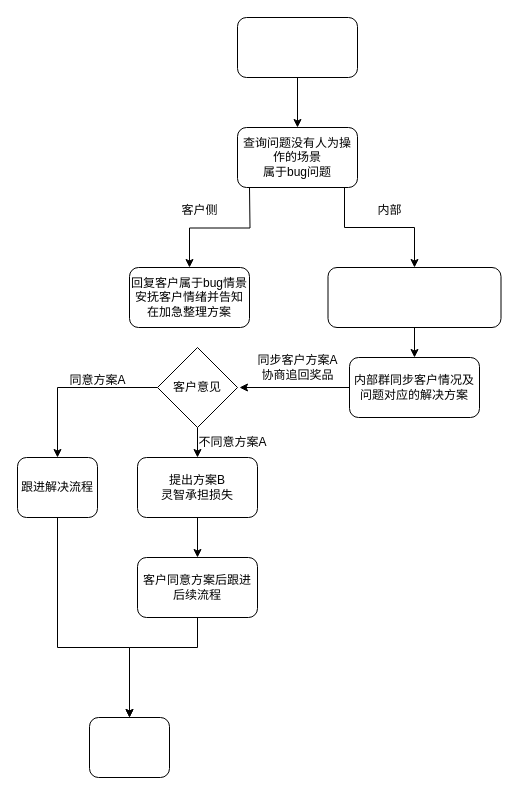
Some shapes in this 519 by 795 pixel diagram are drawn without their labels. The box of each missing label's shape, as (x1, y1, x2, y2) in pixels:
接收客户问题: (236, 16, 358, 78)
整理应对方案，优先方案A A：协商追回 B：承担损失: (327, 266, 501, 328)
问题复盘同步: (88, 716, 170, 778)
